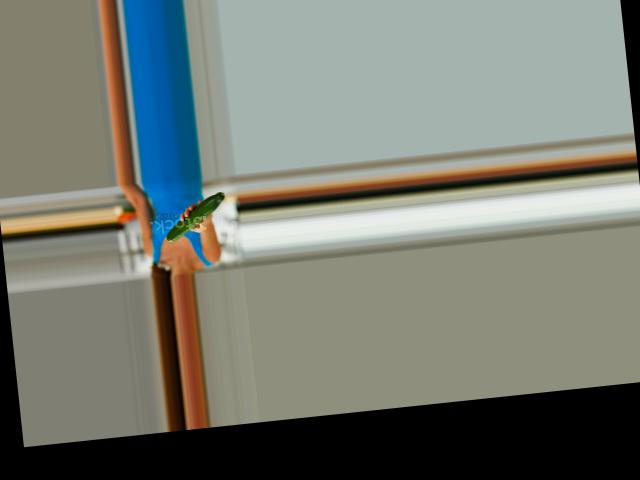cucumber: (161, 191, 228, 241)
